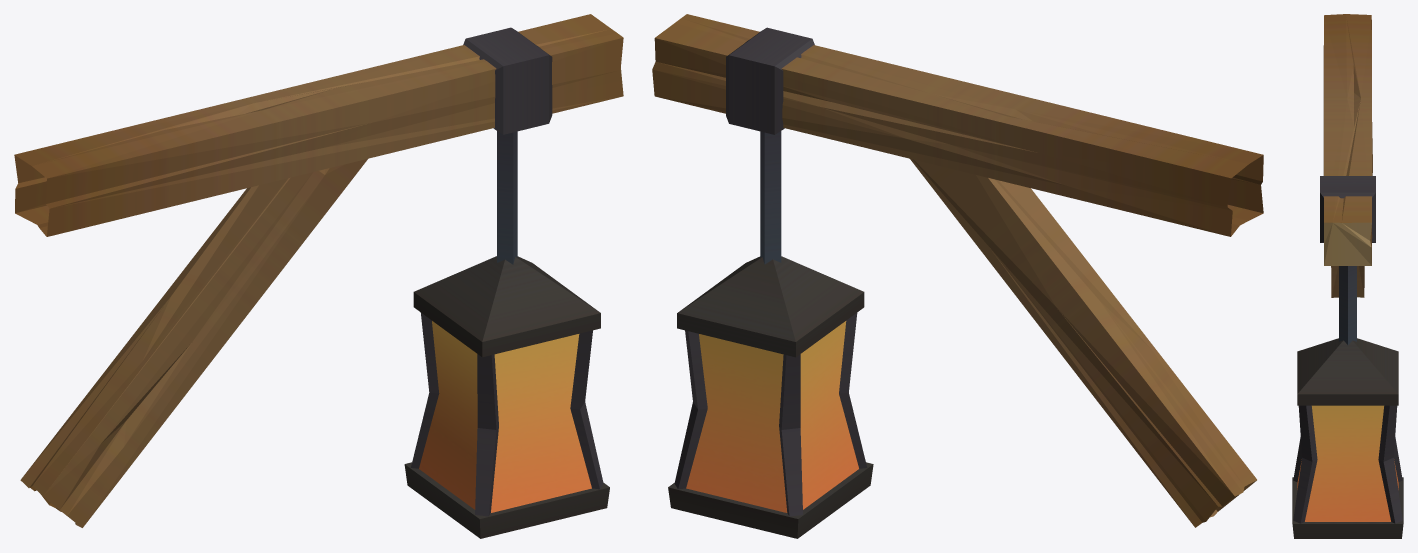
The model's file is Lamp_3.fbx.
3 renders of one model, left to right at view 1: azimuth 30°, elevation 25°; view 2: azimuth 150°, elevation 25°; view 3: azimuth 270°, elevation 25°, orthographic. The views are drawn at different scales.
Visible parts, largest first — view 1: polySurface9696; view 2: polySurface9696; view 3: polySurface9696.
Part boxes in pixels (bbox=[...]): polySurface9696: bbox=[14, 14, 623, 538]; polySurface9696: bbox=[652, 14, 1263, 538]; polySurface9696: bbox=[1292, 14, 1403, 538].
Bounding box in the file's own units: 206 × 153 × 46.33.
